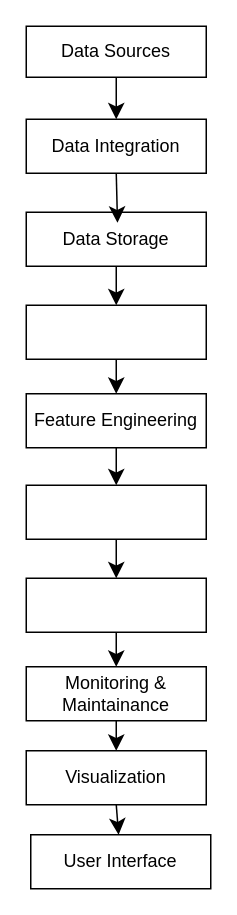
The diagram is 237 pixels wide and 915 high, and some of its shapes have lost their labels. Here are the shapes that lost their labels. From the top down, the centre of each, then its label:
point (115, 331): Data Preprocessing
point (115, 511): ML Pipeline
point (115, 604): Prediction
